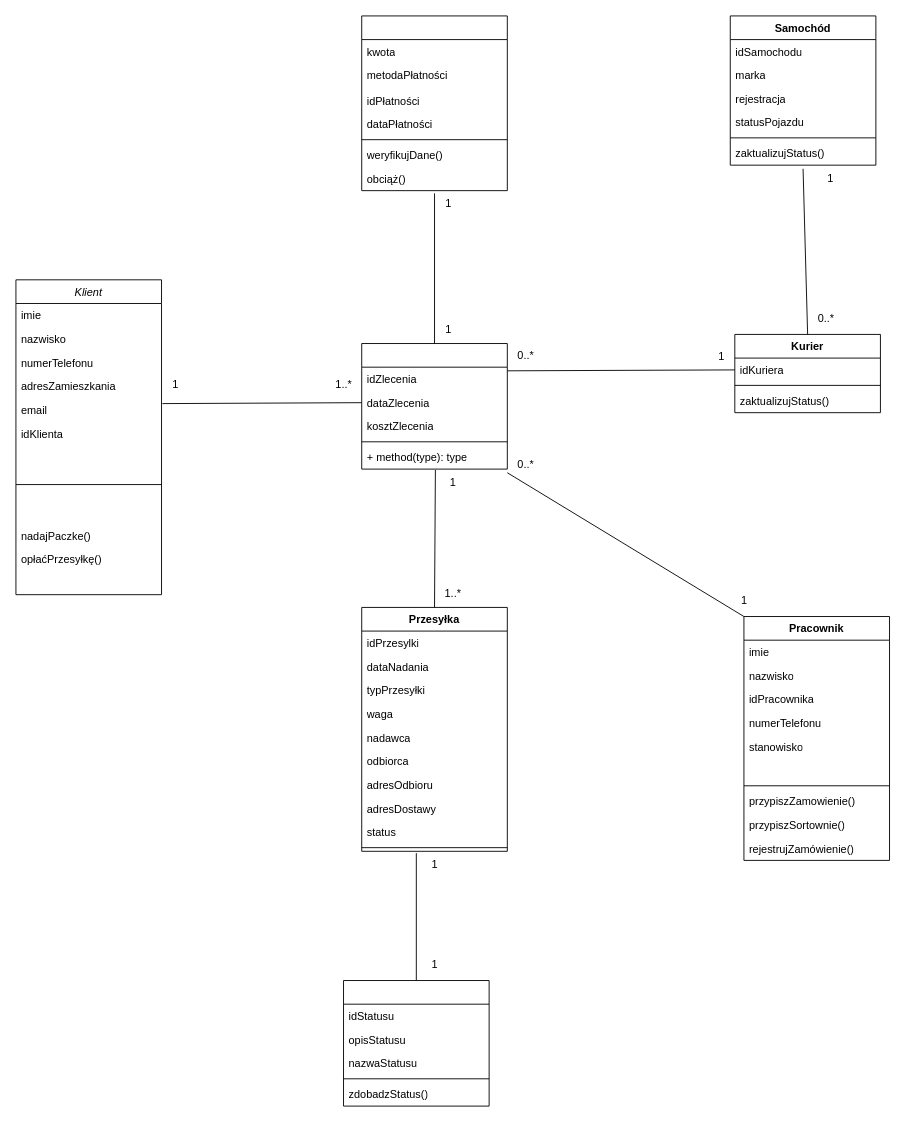
Some shapes in this 905 by 1125 pixel diagram are drawn without their labels. Here are the shapes that lost their labels. From the top down, the box of each, then its label:
(361, 15, 507, 191): Płatność
(361, 343, 507, 469): Zlecenie
(343, 980, 489, 1106): Status Przesyłki
